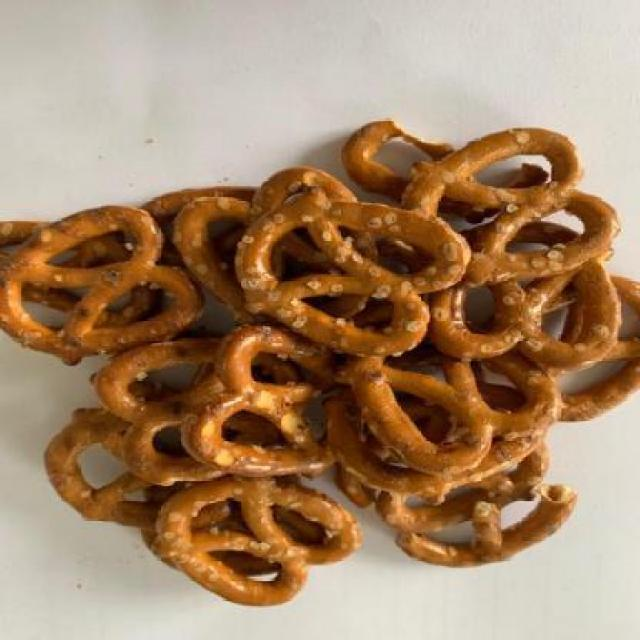Salatini packaged: (13, 119, 639, 618)
